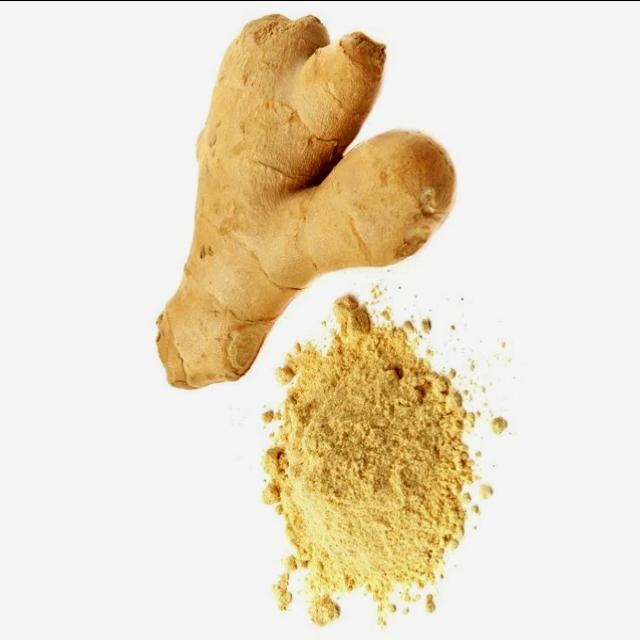ginger-root: (110, 0, 494, 478)
